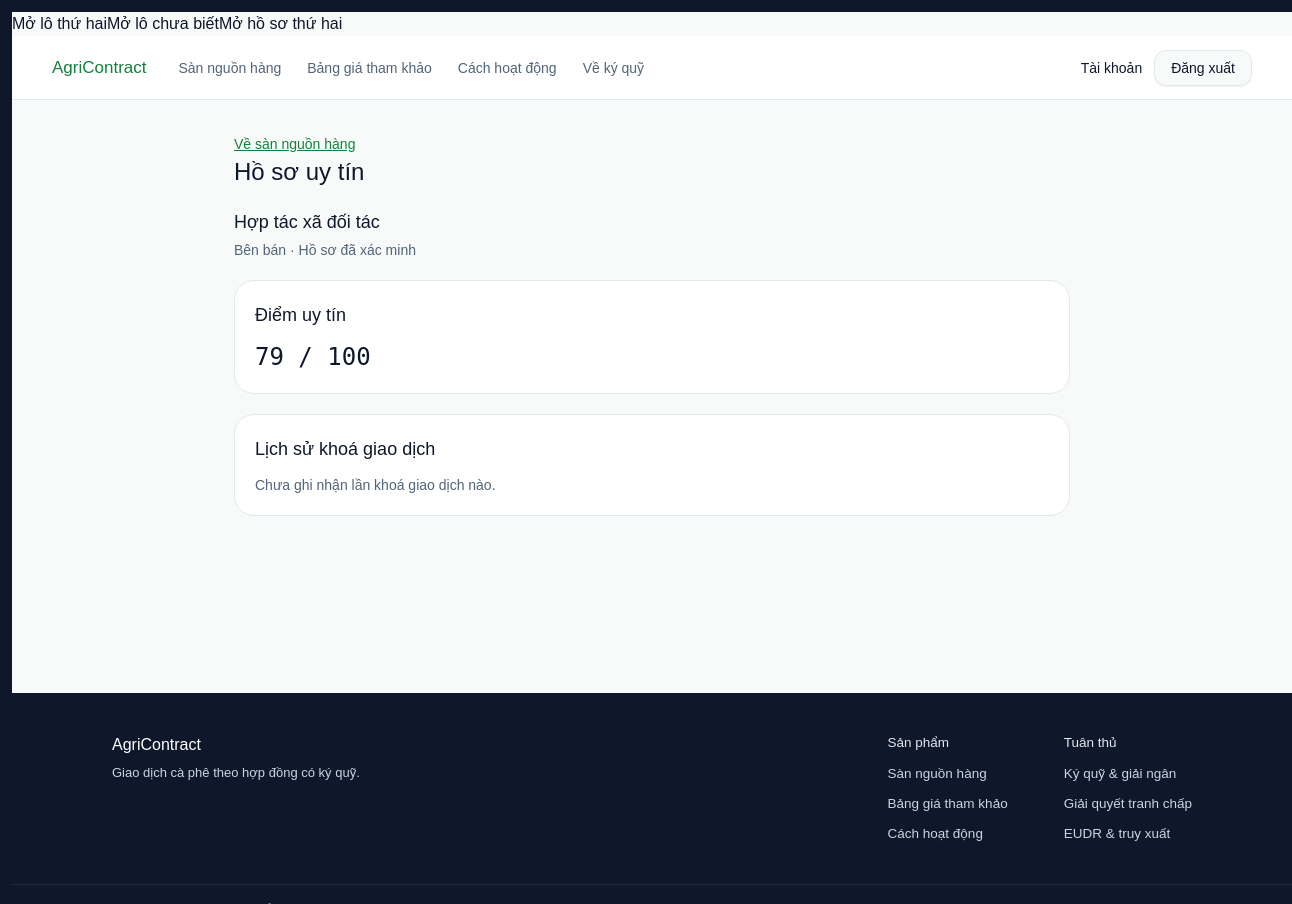
keys authenticated reputation reads by subject and shows absence of facts
Check: the text "79 / 100" is shown, box [255, 343, 371, 371]
Check: the text "Hợp tác xã đối tác" is shown, box [234, 212, 380, 232]
Click the link "Mở hồ sơ thứ hai" at (281, 24), box [219, 15, 342, 32]
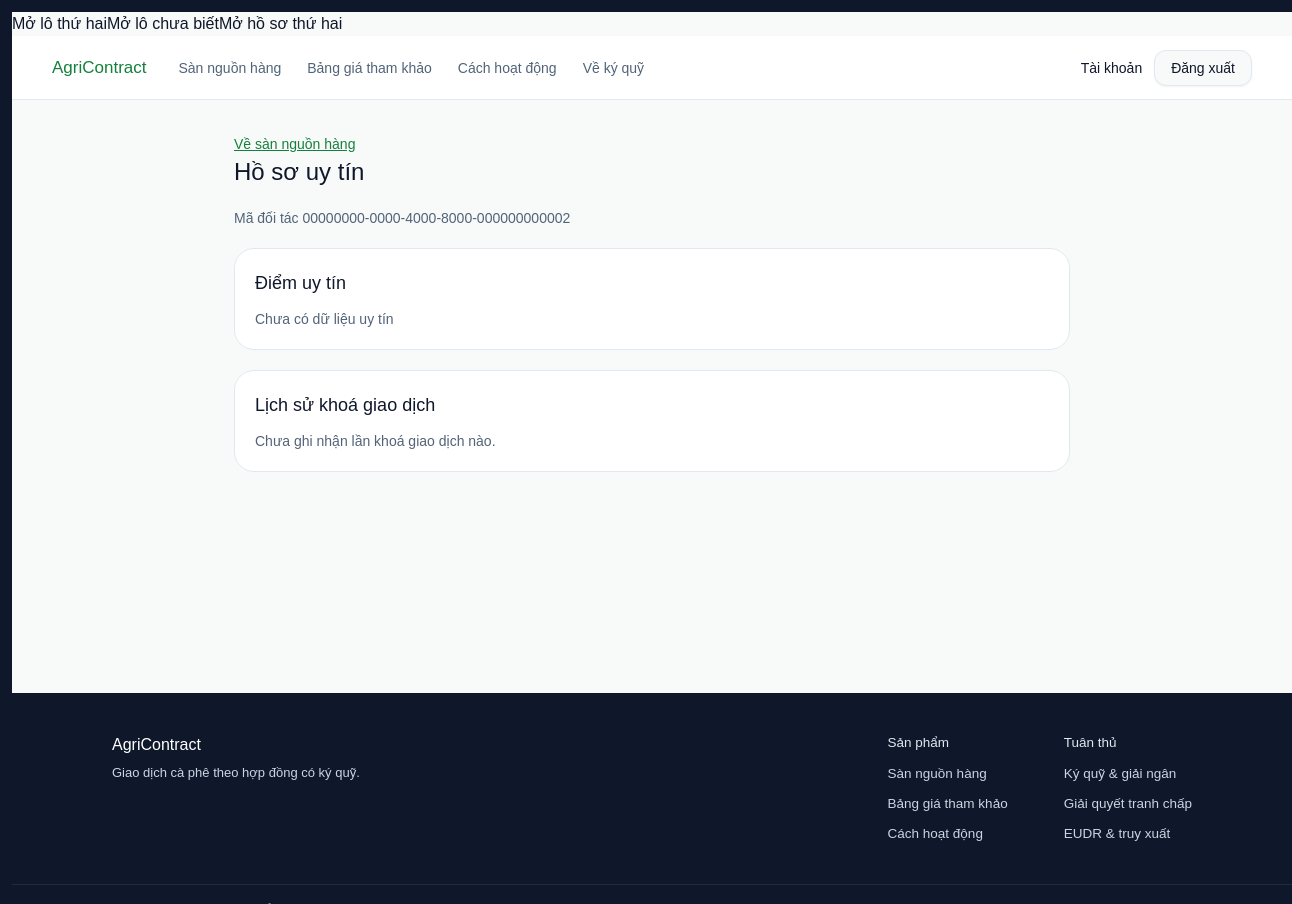
Check: the text "Chưa có dữ liệu uy tín" is shown, box [255, 311, 394, 327]
Check: the text "79 / 100" is gone
Check: the text "Hợp tác xã đối tác" is gone
